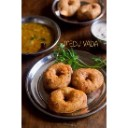vada: (50, 87, 87, 111), (74, 66, 103, 91), (47, 61, 72, 88)
